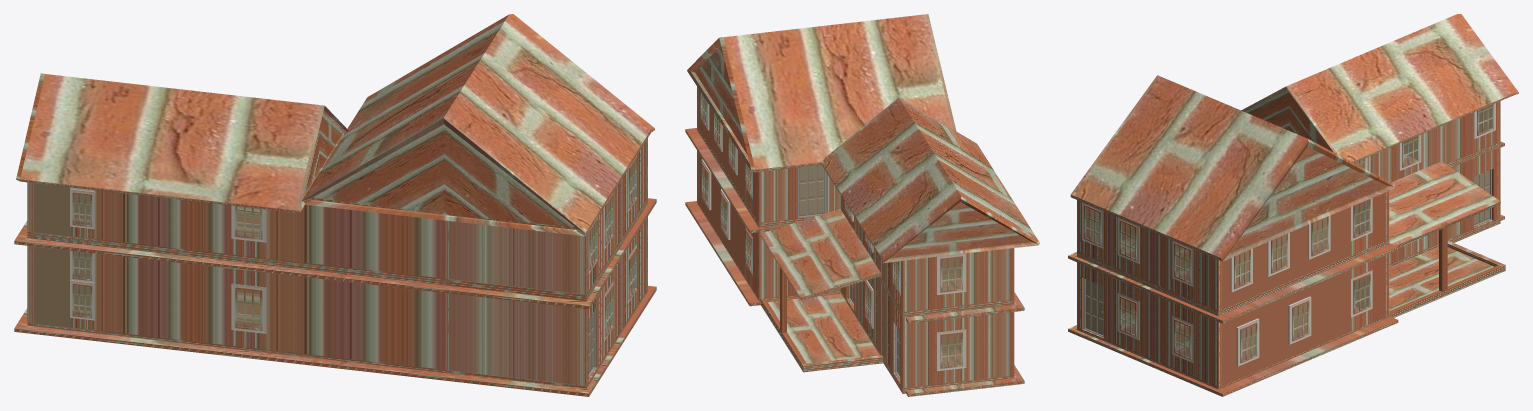
File: house1.fbx
3 renders of one model, left to right at view 1: azimuth 30°, elevation 25°; view 2: azimuth 150°, elevation 25°; view 3: azimuth 270°, elevation 25°, orthographic. The views are drawn at different scales.
Visible parts, largest first — view 1: pasted__pCube18, pasted__pCube15, pasted__polySurface1, pasted__pCube19, pasted__pCube20, pasted__pCube21, pasted__pasted__glass_02 (×2), pasted__pasted__outer_frame_02, pasted__pasted__door; view 2: pasted__pCube18, pasted__pCube19, pasted__pCube15, pasted__polySurface1, pasted__pCube17, pasted__pCube16, pasted__pCube20, pasted__pCube21, pasted__pasted__door, pasted__pasted__glass_02 (×2), pasted__pasted__outer_frame_02 (×2), pasted__pasted__inner_grame (×2); view 3: pasted__pCube18, pasted__pCube15, pasted__pCube19, pasted__polySurface1, pasted__pCube17, pasted__pCube21, pasted__pCube20, pasted__pCube16, pasted__pasted__glass_02 (×4), pasted__pasted__door (×2), pasted__pasted__outer_frame_02 (×2).
Boxes of the visible parts, x1=… form: pasted__pCube18: x1=302, y1=14, x2=654, y2=236; pasted__pCube15: x1=27, y1=217, x2=647, y2=388; pasted__polySurface1: x1=27, y1=138, x2=647, y2=301; pasted__pCube19: x1=16, y1=73, x2=348, y2=212; pasted__pCube20: x1=14, y1=285, x2=656, y2=396; pasted__pCube21: x1=14, y1=198, x2=656, y2=309; pasted__pasted__glass_02 (×2): x1=237, y1=206, x2=259, y2=328; pasted__pasted__outer_frame_02: x1=231, y1=283, x2=266, y2=333; pasted__pasted__door: x1=74, y1=251, x2=89, y2=310; pasted__pCube18: x1=687, y1=14, x2=956, y2=172; pasted__pCube19: x1=821, y1=98, x2=1039, y2=263; pasted__pCube15: x1=697, y1=151, x2=1014, y2=393; pasted__polySurface1: x1=697, y1=86, x2=1014, y2=317; pasted__pCube17: x1=760, y1=209, x2=881, y2=300; pasted__pCube16: x1=768, y1=294, x2=879, y2=363; pasted__pCube20: x1=685, y1=201, x2=1024, y2=396; pasted__pCube21: x1=685, y1=128, x2=1024, y2=323; pasted__pasted__door: x1=799, y1=165, x2=824, y2=216; pasted__pasted__glass_02 (×2): x1=942, y1=258, x2=961, y2=366; pasted__pasted__outer_frame_02 (×2): x1=937, y1=253, x2=966, y2=371; pasted__pasted__inner_grame (×2): x1=941, y1=257, x2=961, y2=367; pasted__pCube18: x1=1070, y1=75, x2=1394, y2=261; pasted__pCube15: x1=1077, y1=147, x2=1505, y2=389; pasted__pCube19: x1=1241, y1=14, x2=1518, y2=162; pasted__polySurface1: x1=1077, y1=101, x2=1500, y2=316; pasted__pCube17: x1=1389, y1=161, x2=1500, y2=247; pasted__pCube21: x1=1068, y1=141, x2=1504, y2=323; pasted__pCube20: x1=1068, y1=215, x2=1504, y2=396; pasted__pCube16: x1=1389, y1=247, x2=1493, y2=310; pasted__pasted__glass_02 (×4): x1=1085, y1=207, x2=1286, y2=357; pasted__pasted__door (×2): x1=1085, y1=170, x2=1489, y2=335; pasted__pasted__outer_frame_02 (×2): x1=1236, y1=296, x2=1311, y2=366.
Size of what is drawn, in the model's own units: 94.1 by 44.43 by 82.65.
